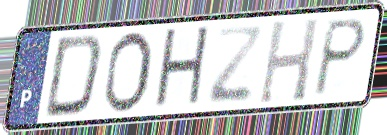D: (41, 32, 106, 120)
H: (256, 16, 322, 106), (151, 23, 212, 114)
O: (100, 29, 154, 116)
P: (310, 16, 369, 100)
Z: (205, 25, 266, 106)
